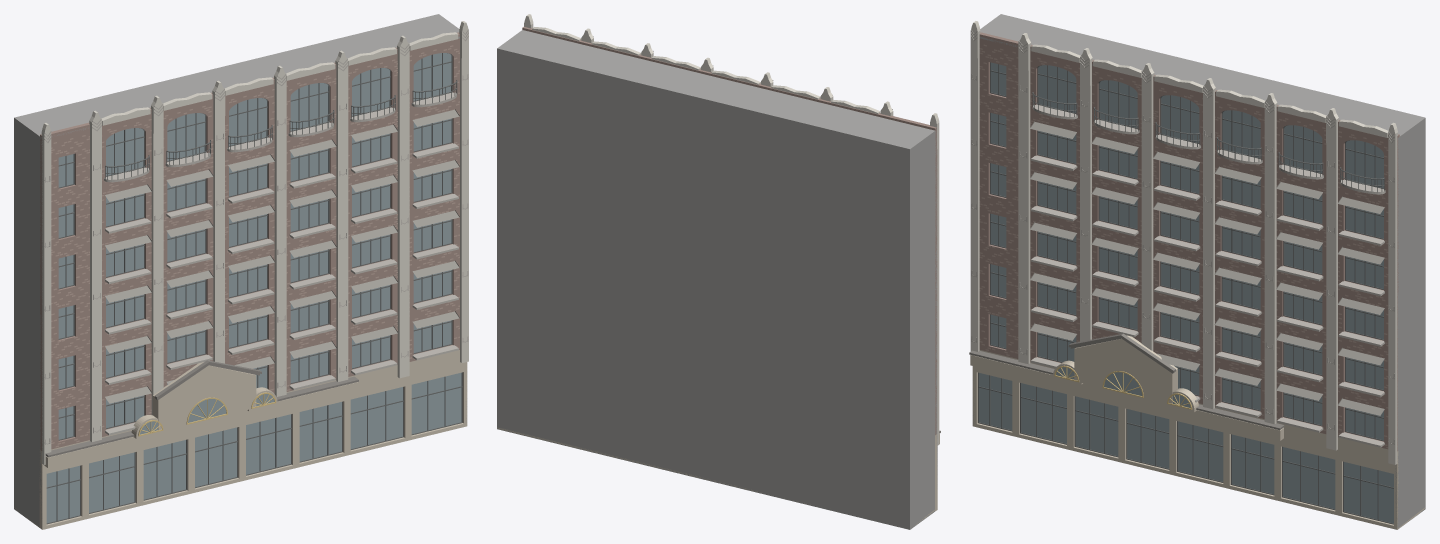
File: hongkou-sihang-building-north-front-raw.glb
The picture shows the model from 3 angles, left to right: view 1: azimuth 30°, elevation 25°; view 2: azimuth 150°, elevation 25°; view 3: azimuth 330°, elevation 25°; orthographic projection. The views are drawn at different scales.
Visible parts, largest first — view 1: 四川北路四行大楼临街北段; view 2: 四川北路四行大楼临街北段; view 3: 四川北路四行大楼临街北段.
Boxes of the visible parts, bbox=[...] form: 四川北路四行大楼临街北段: bbox=[14, 14, 468, 529]; 四川北路四行大楼临街北段: bbox=[497, 14, 940, 529]; 四川北路四行大楼临街北段: bbox=[969, 14, 1425, 529].
Size of the model in its own units: 26.44 by 24.12 by 4.05.
